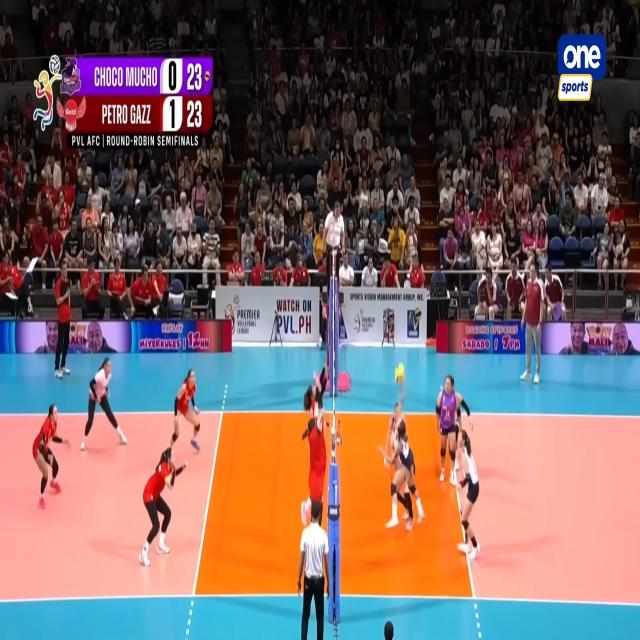Volleyball-Ball: (394, 362, 406, 386)
